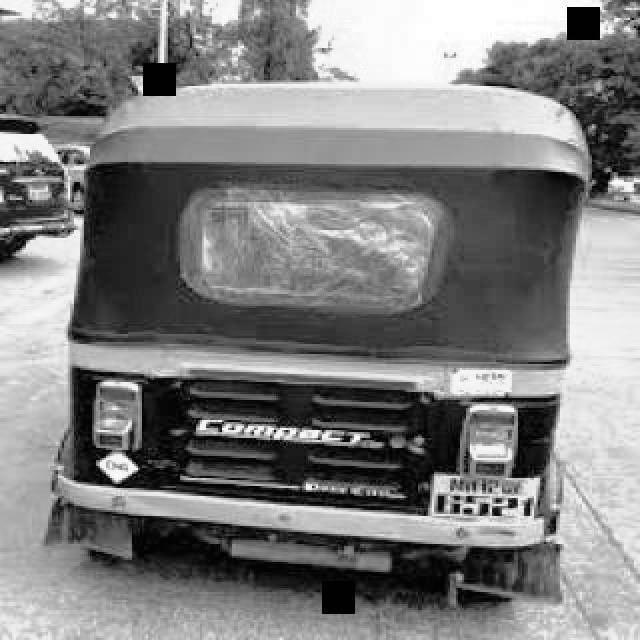Auto-Rickshaw: (66, 74, 594, 630)
